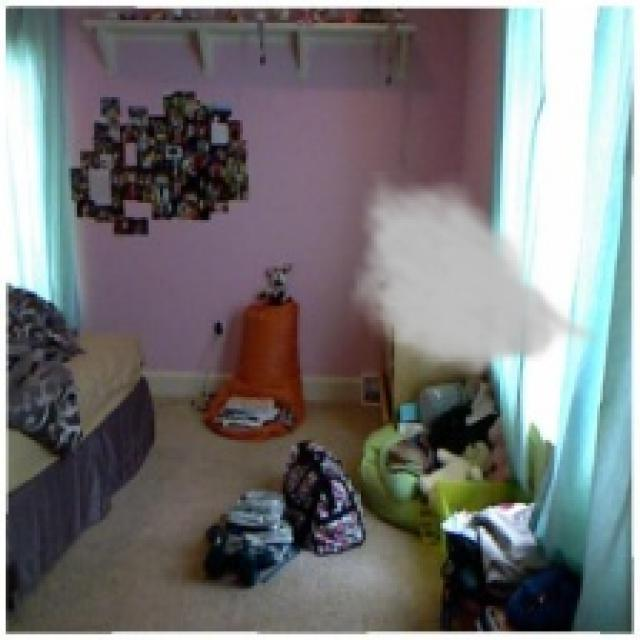Smoke: (348, 168, 606, 386)
